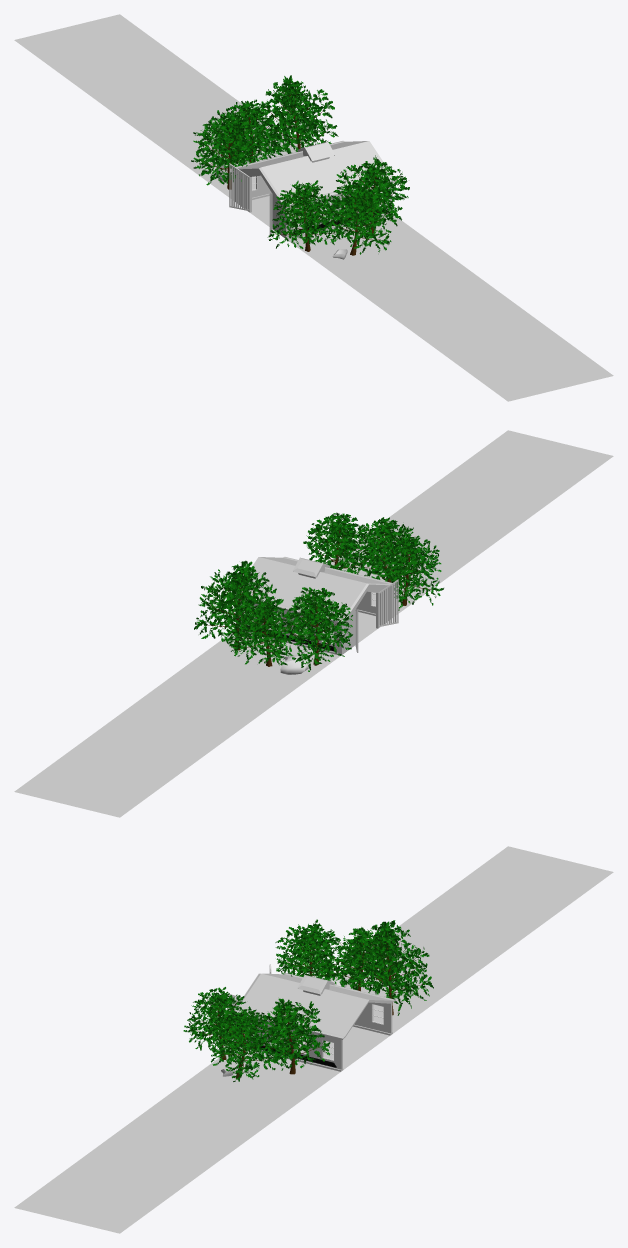
The model's file is Basic_8.fbx.
3 views of the same model, one above another, from view 1: azimuth 30°, elevation 25°; view 2: azimuth 150°, elevation 25°; view 3: azimuth 330°, elevation 25° (orthographic).
Parts seen in each view (by area): view 1: Plane001, Object004, Foliage003, Foliage005, Foliage002, Foliage006, Foliage001, Foliage004, Object003, Box003; view 2: Plane001, Object004, Foliage003, Foliage005, Foliage004, Foliage006, Foliage001, Foliage002, Object003, Box003; view 3: Plane001, Object004, Foliage003, Foliage001, Foliage002, Foliage005, Foliage006, Foliage004, Box003, Object003.
Part boxes in pixels (x1,y1,x2,y2): Plane001: [14, 14, 613, 401]; Object004: [235, 141, 395, 207]; Foliage003: [259, 75, 338, 153]; Foliage005: [191, 110, 272, 189]; Foliage002: [322, 182, 396, 255]; Foliage006: [267, 180, 343, 251]; Foliage001: [332, 155, 409, 233]; Foliage004: [211, 99, 293, 164]; Object003: [229, 141, 334, 236]; Box003: [237, 170, 392, 236]; Plane001: [14, 430, 613, 817]; Object004: [235, 557, 394, 622]; Foliage003: [194, 560, 276, 656]; Foliage005: [273, 587, 352, 671]; Foliage004: [225, 596, 307, 666]; Foliage006: [367, 534, 443, 610]; Foliage001: [303, 512, 376, 573]; Foliage002: [345, 517, 417, 581]; Object003: [293, 557, 398, 652]; Box003: [235, 586, 390, 652]; Plane001: [14, 846, 613, 1233]; Object004: [234, 973, 395, 1039]; Foliage003: [350, 920, 433, 1015]; Foliage001: [251, 998, 330, 1074]; Foliage002: [209, 1006, 282, 1081]; Foliage005: [275, 919, 353, 984]; Foliage006: [183, 987, 258, 1062]; Foliage004: [319, 927, 401, 993]; Box003: [242, 1001, 392, 1069]; Object003: [229, 964, 334, 1025].
Size of the model in its own units: 1428 by 826 by 8000.
